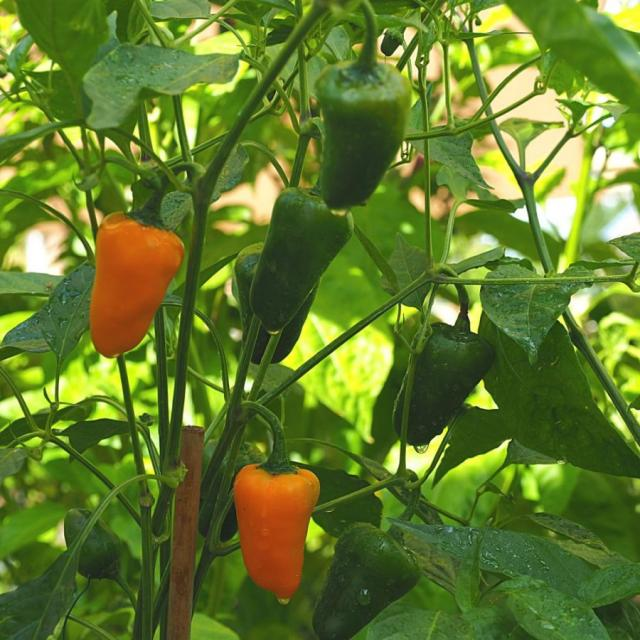aji: (220, 162, 364, 343), (316, 68, 432, 252), (218, 437, 330, 610), (94, 196, 176, 372)
